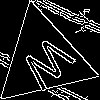W: (18, 34, 83, 100)
